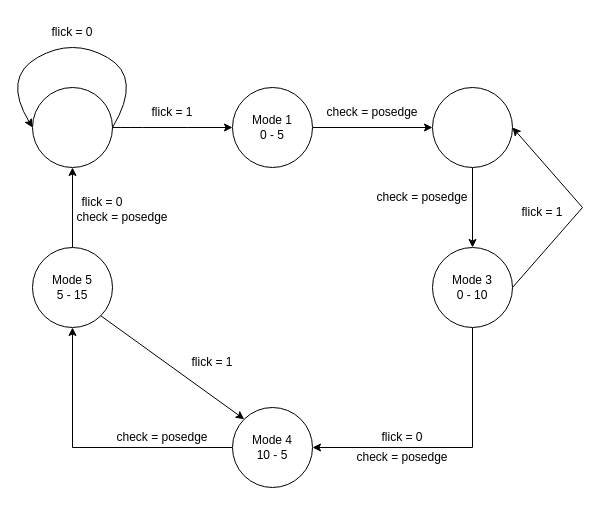
The diagram is 608 pixels wide and 505 high, and some of its shapes have lost their labels. Here are the shapes that lost their labels. From the top down, the centre of each, then its label:
At pixel 72 127: "Initial".
At pixel 472 127: "Mode 2 5 - 0".
